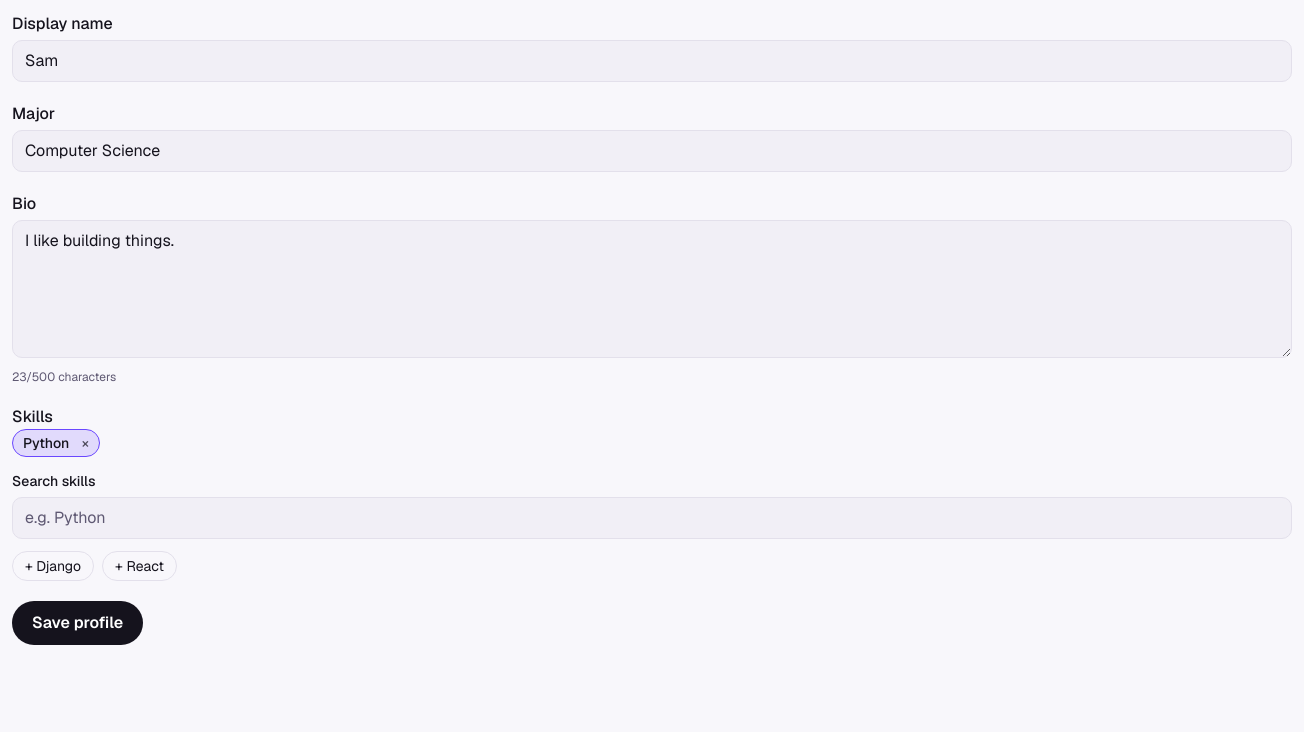
Test: saves name, major, bio and skills
This screenshot has width=1304, height=732.
Replace the text in the field labelled "Display name" with "Sam Lee" at (652, 61), box [12,40,1292,82]
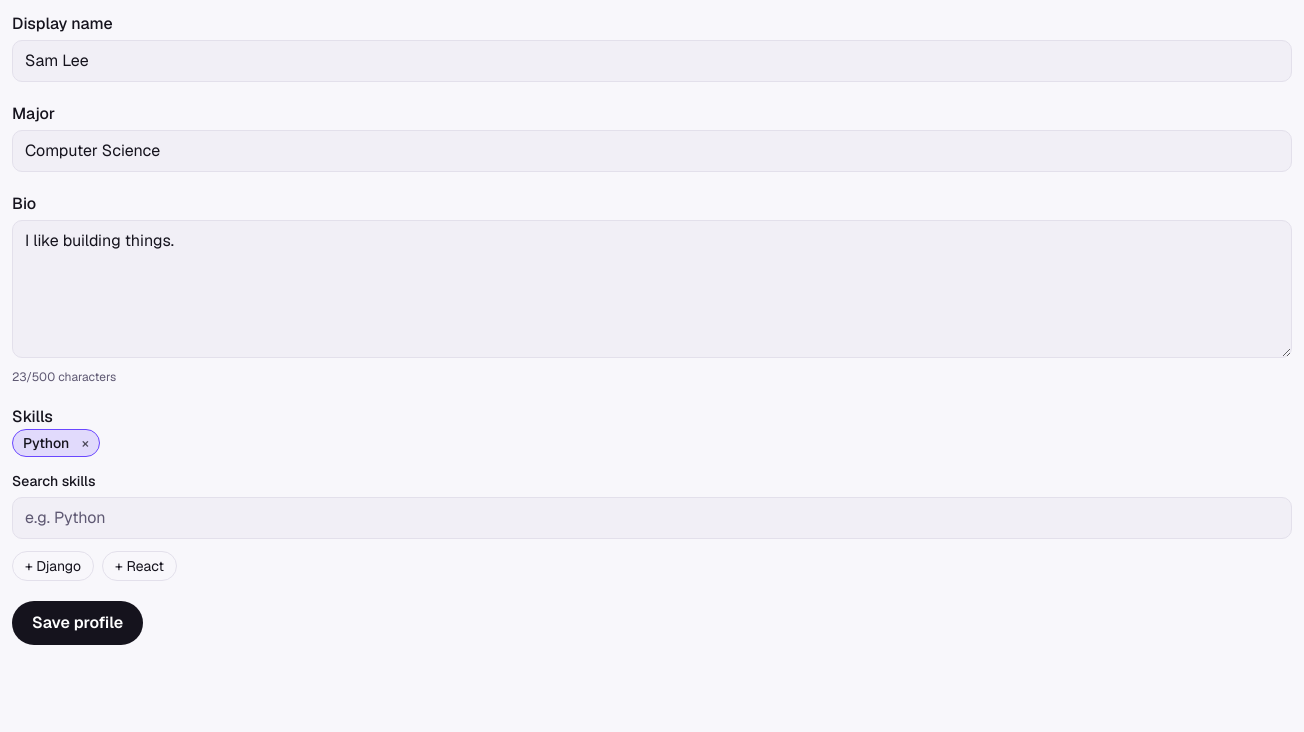
Click the button "+ Django".
click(53, 566)  # box [12,551,94,581]
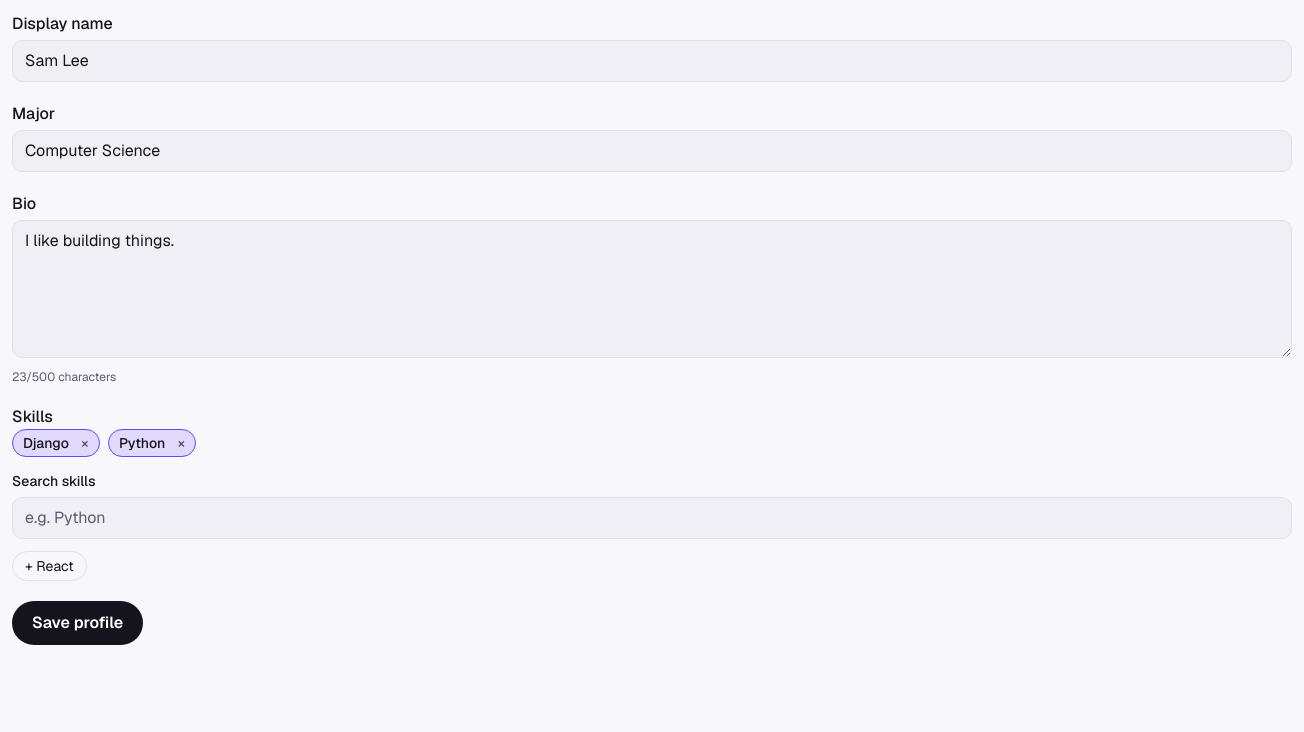
Click the button named "Remove Python".
click(181, 443)  # box [169,431,193,455]
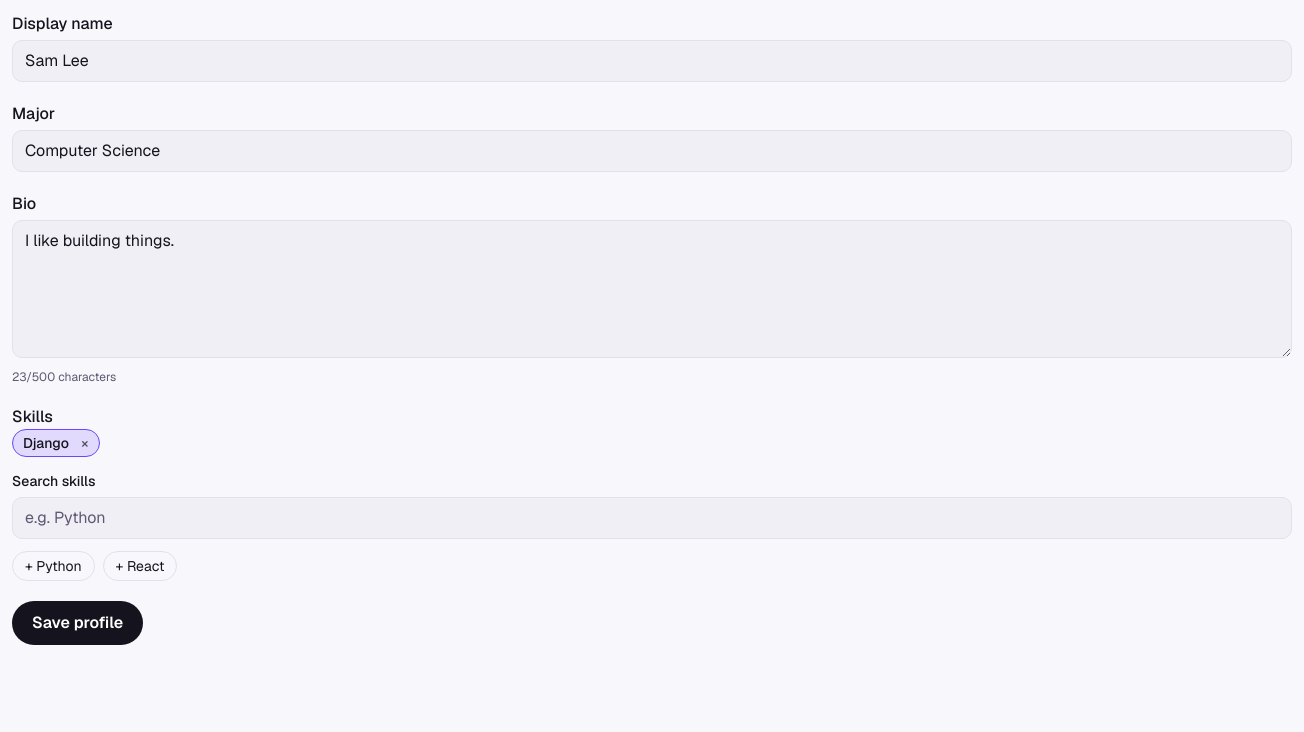
Click the button "Save profile".
click(78, 623)  # box [12,601,143,645]
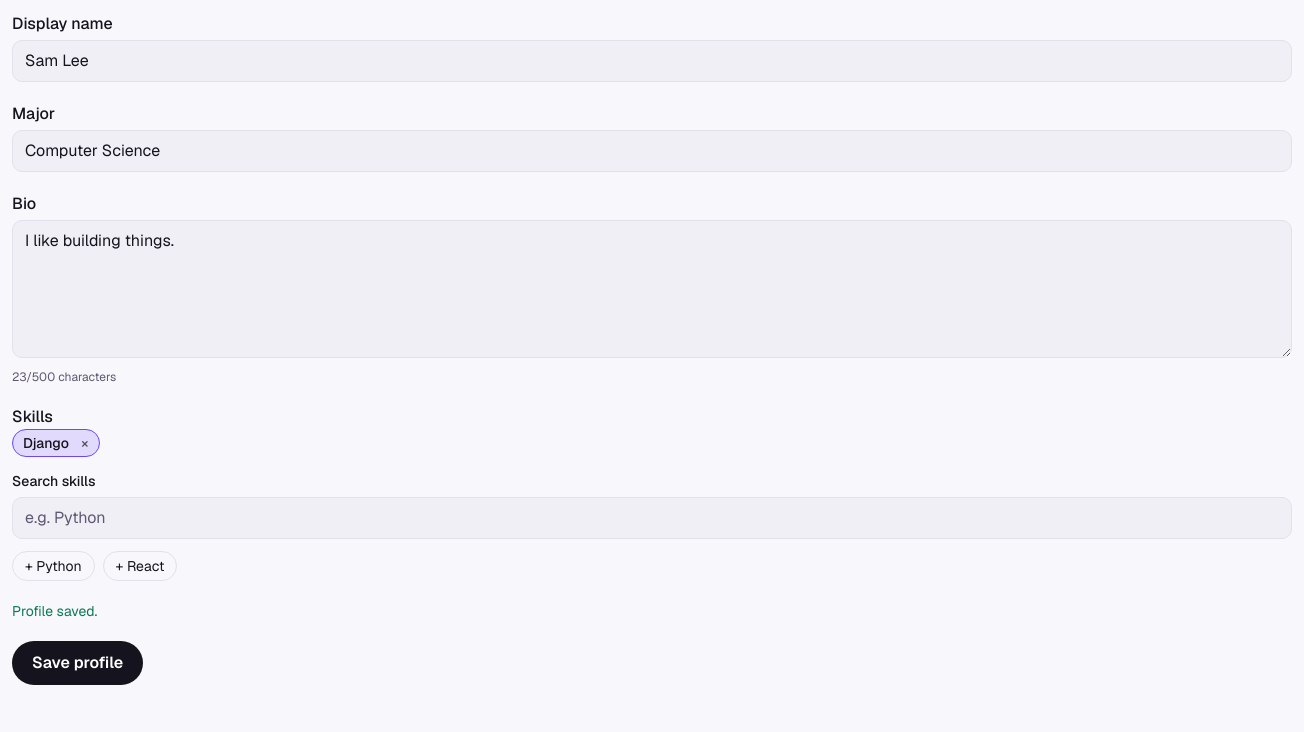
Now the text "Profile saved." is shown, box [12,602,97,620]
